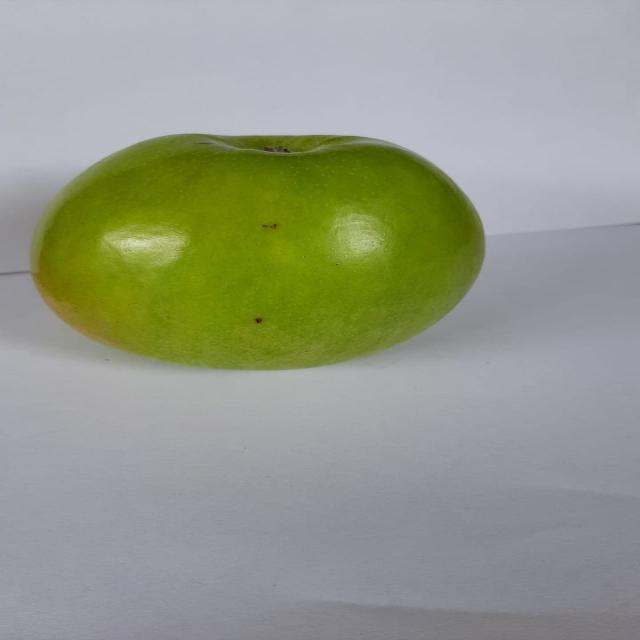50-_ripeness: (24, 122, 494, 378)
